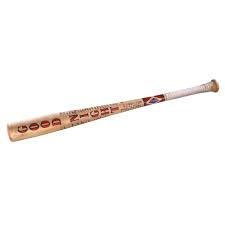baseball bat: (7, 80, 219, 142)
